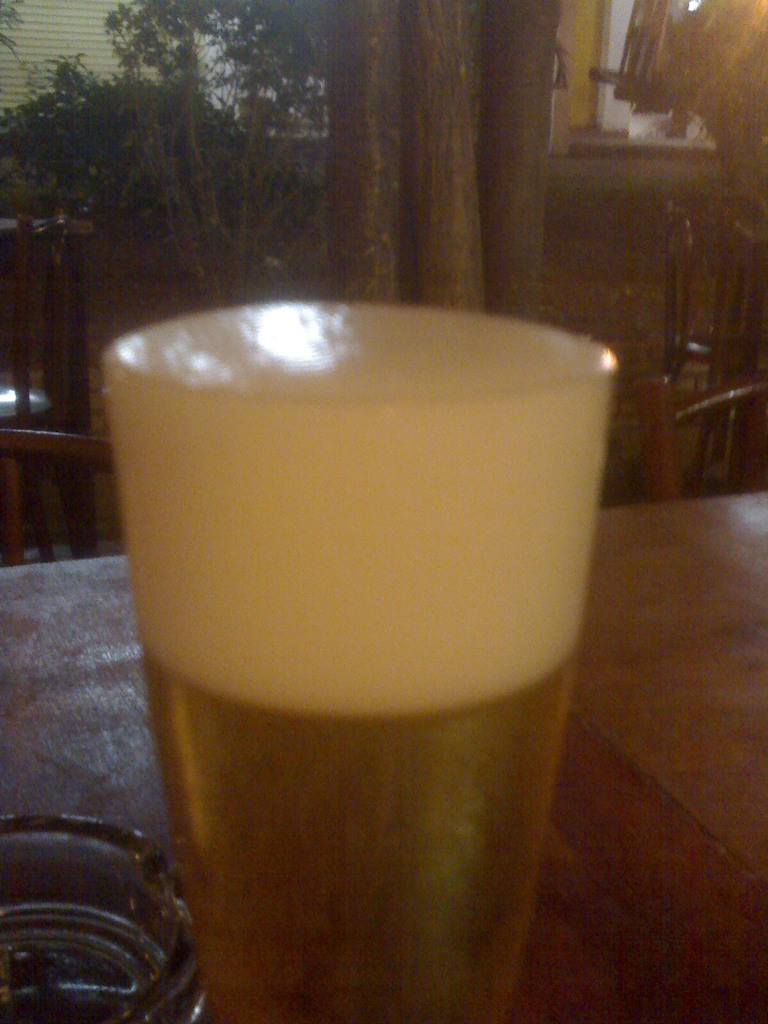Beer: (110, 296, 619, 1023)
